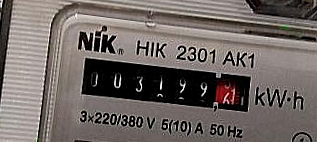0: (110, 70, 123, 90), (87, 68, 98, 87)
1: (154, 73, 165, 92)
3: (132, 73, 144, 94)
6: (219, 89, 231, 104)
9: (175, 74, 187, 96), (197, 79, 209, 98)
screen: (71, 46, 259, 122)
